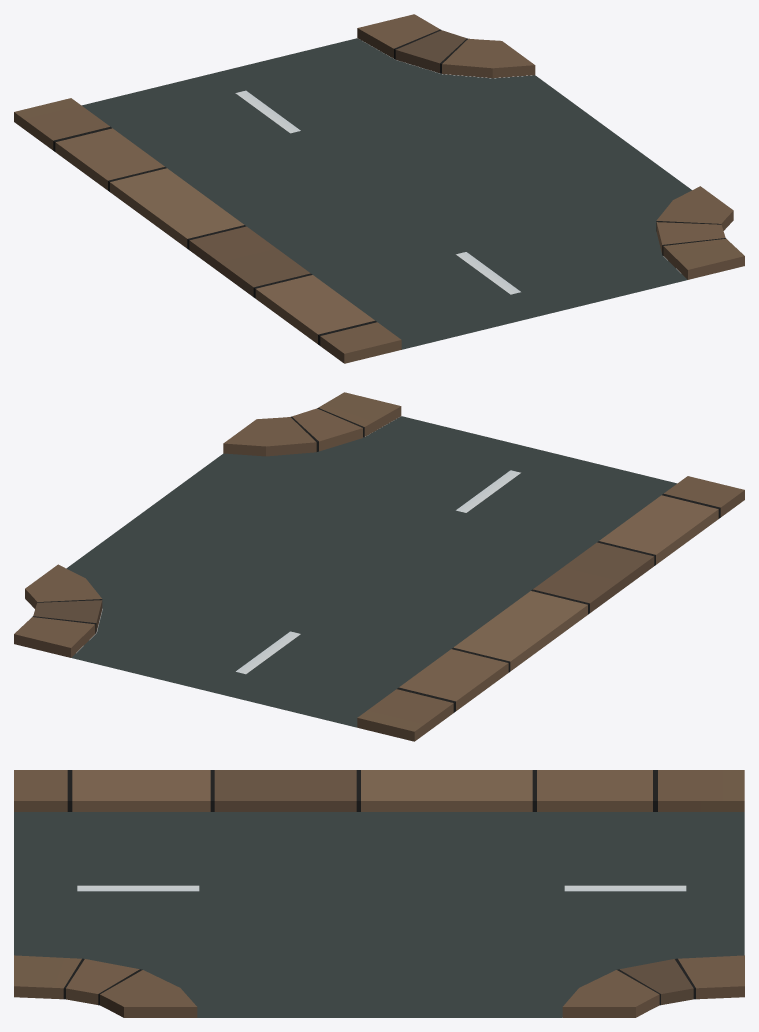
Rendered from Road_1_111.fbx.
The picture shows the model from 3 angles, top to bottom: view 1: azimuth 30°, elevation 25°; view 2: azimuth 150°, elevation 25°; view 3: azimuth 270°, elevation 25°; orthographic projection. The views are drawn at different scales.
Parts seen in each view (by area): view 1: Road_1_111; view 2: Road_1_111; view 3: Road_1_111.
Boxes of the visible parts, bbox=[...] form: Road_1_111: bbox=[14, 14, 744, 363]; Road_1_111: bbox=[14, 392, 744, 741]; Road_1_111: bbox=[14, 770, 744, 1017].
Bounding box in the file's own units: 1380 × 30 × 1801.
